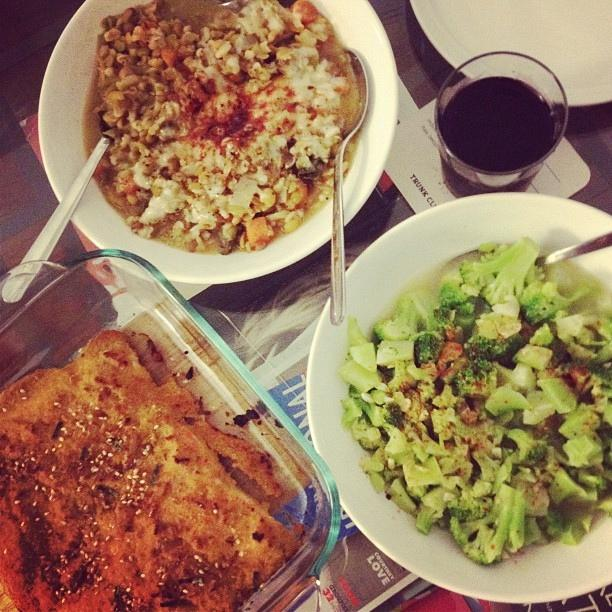broccoli: (450, 484, 526, 566), (459, 236, 542, 306), (556, 312, 612, 362), (423, 428, 474, 481), (372, 293, 421, 342), (557, 402, 601, 442), (536, 377, 580, 415), (548, 466, 588, 505), (507, 428, 548, 466), (485, 384, 532, 416), (382, 422, 414, 469), (338, 360, 382, 394), (448, 489, 493, 522), (492, 360, 537, 393), (562, 432, 602, 469), (402, 456, 444, 488), (463, 335, 512, 361), (522, 389, 556, 425), (413, 332, 444, 370), (512, 344, 554, 372), (580, 358, 609, 396), (386, 360, 418, 394), (376, 339, 415, 366), (389, 478, 417, 514), (352, 418, 382, 449), (349, 342, 379, 373), (438, 278, 470, 307), (432, 384, 466, 410), (415, 504, 443, 535), (522, 516, 548, 548), (340, 398, 364, 432), (424, 305, 451, 333), (560, 517, 586, 545), (529, 322, 555, 349), (526, 487, 550, 516), (502, 446, 520, 476), (492, 464, 509, 494), (489, 424, 511, 447), (370, 389, 394, 408), (359, 456, 384, 472), (591, 383, 611, 400)
